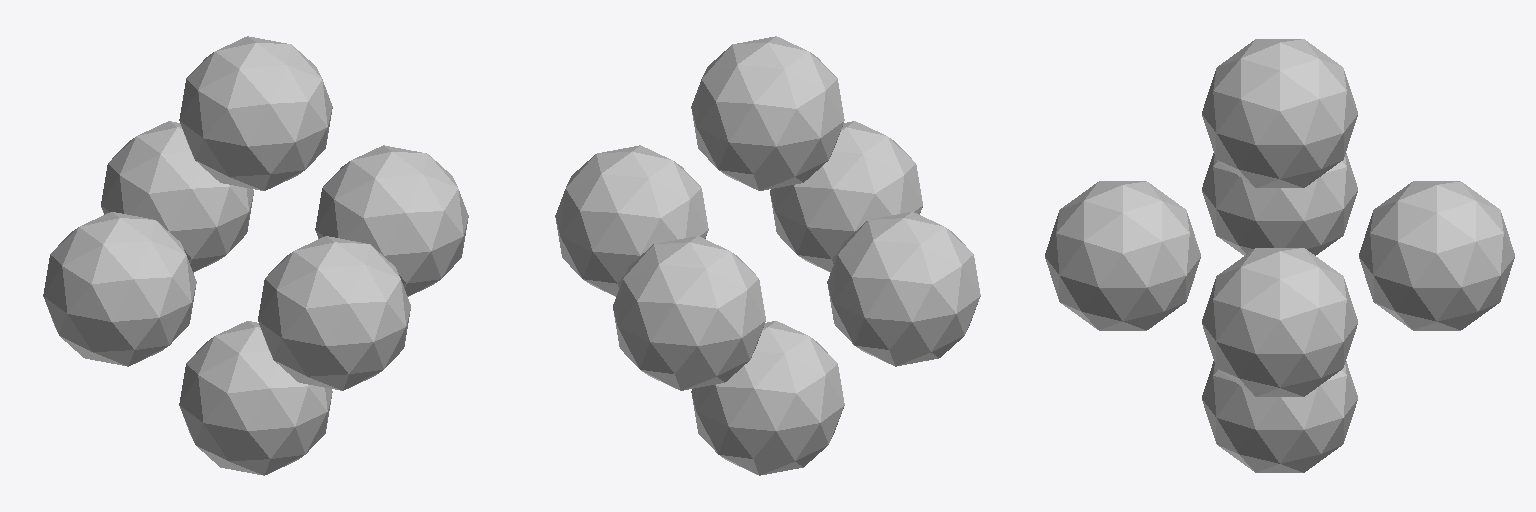
The model's file is multi_sphere.obj.
3 renders of one model, left to right at view 1: azimuth 30°, elevation 25°; view 2: azimuth 150°, elevation 25°; view 3: azimuth 270°, elevation 25°, orthographic.
Parts seen in each view (by area): view 1: Icosphere.002, Icosphere.005, Icosphere.001, Icosphere.003, Icosphere.004, Icosphere; view 2: Icosphere.002, Icosphere.005, Icosphere, Icosphere.003, Icosphere.004, Icosphere.001; view 3: Icosphere, Icosphere.001, Icosphere.002, Icosphere.004, Icosphere.003, Icosphere.005.
Part boxes in pixels (x1,y1,x2,y2): Icosphere.002: (179, 36, 332, 190); Icosphere.005: (43, 212, 196, 366); Icosphere.001: (258, 236, 410, 390); Icosphere.003: (179, 321, 332, 475); Icosphere.004: (315, 145, 468, 296); Icosphere: (101, 121, 253, 272); Icosphere.002: (691, 36, 844, 190); Icosphere.005: (827, 212, 980, 366); Icosphere: (613, 236, 765, 390); Icosphere.003: (691, 321, 844, 475); Icosphere.004: (555, 145, 708, 296); Icosphere.001: (770, 121, 922, 272); Icosphere: (1359, 181, 1514, 330); Icosphere.001: (1045, 181, 1200, 330); Icosphere.002: (1202, 39, 1357, 187); Icosphere.004: (1202, 248, 1357, 396); Icosphere.003: (1202, 361, 1357, 472); Icosphere.005: (1202, 153, 1357, 255).
Bounding box in the file's own units: 5.9 × 6 × 6.